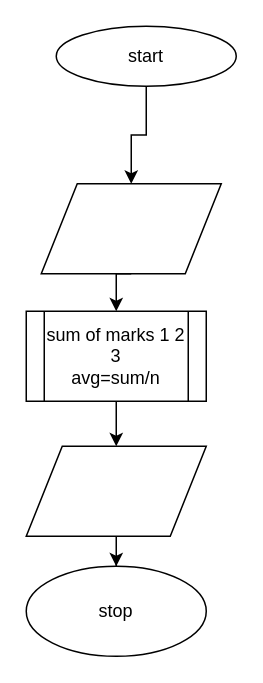
Some shapes in this 263 by 683 pixel diagram are drawn without their labels. The shapes that lost their labels are listed below. From the top down, each one's centre as x and y in pixels, then its label:
At pixel 130 228: "accept marks1 accept marks2 accept marks3".
At pixel 115 490: "print(averge of three sub)".
